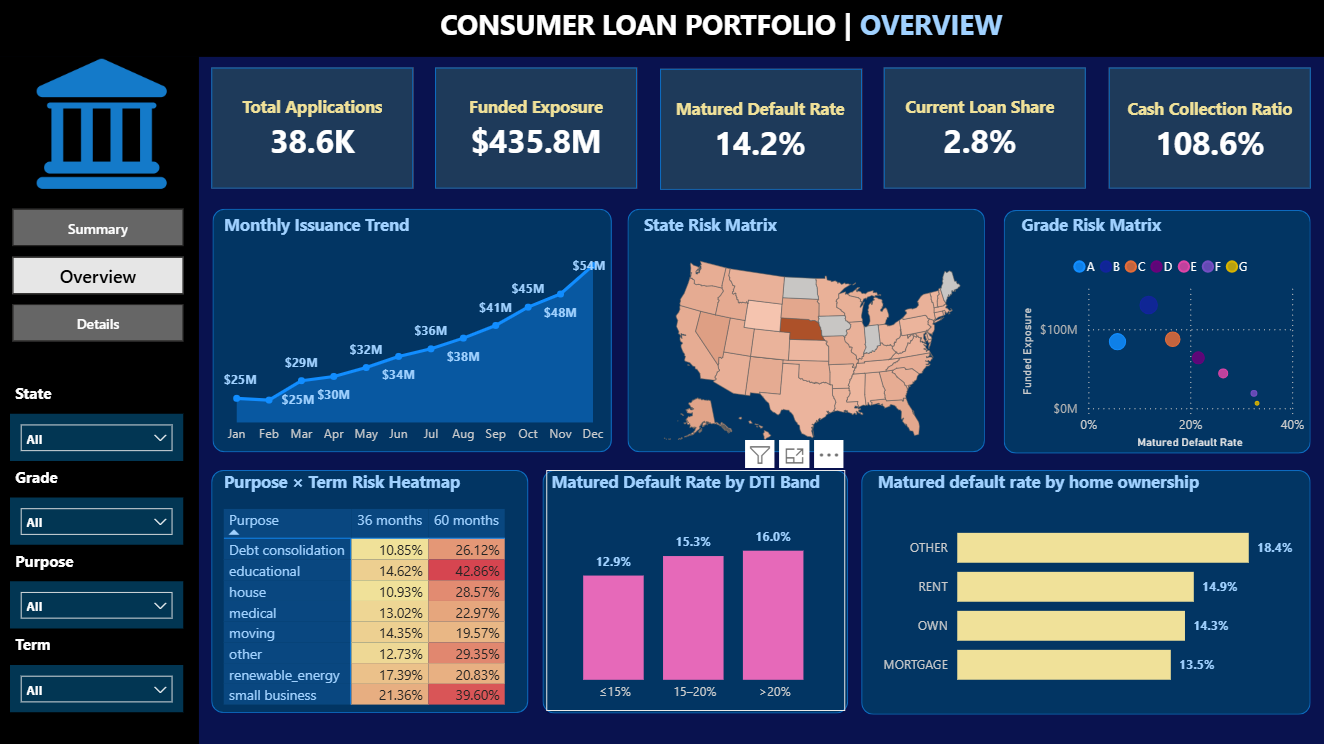

The dashboard page shown, as its layout file describes it:
{"tool":"powerbi","page":{"name":"Overview","canvas":[1280,720],"ordinal":1},"visuals":[{"type":"shape","box":[0,0,1280.3,54.9],"z":0},{"type":"shape","box":[0,54.3,192,666],"z":1000},{"type":"textbox","box":[420,0,561.2,52.5],"z":2000},{"type":"shape","box":[204.5,201.7,385.4,235.1],"z":3000},{"type":"areaChart","title":"Monthly Issuance Trend ","fields":{"Category":["Date Table.Month"],"Y":["_Measure.Funded Exposure"]},"box":[211.1,205.1,378.8,231.6],"z":4000},{"type":"shape","box":[605.2,201.7,345,235.1],"z":5000},{"type":"shapeMap","title":"State Risk Matrix","fields":{"Category":["bank_loan_data.address_state"],"Value":["_Measure.Matured Default Rate"]},"box":[616.3,204.5,335.3,233.7],"z":6000},{"type":"shape","box":[968.3,203.1,296.3,235.1],"z":7000},{"type":"scatterChart","title":"Grade Risk Matrix","fields":{"Series":["bank_loan_data.grade"],"Size":["_Measure.Resolved Loans"],"X":["_Measure.Matured Default Rate"],"Y":["_Measure.Funded Exposure"]},"box":[980.8,205.1,283.5,232.8],"z":8000},{"type":"shape","box":[204.5,453.8,306,234.6],"z":9000},{"type":"pivotTable","title":"Purpose × Term Risk Heatmap","fields":{"Columns":["bank_loan_data.term"],"Rows":["bank_loan_data.purpose"],"Values":["_Measure.Matured Default Rate"]},"box":[211.3,453.8,299.1,231.9],"z":10000},{"type":"shape","box":[523.8,453.8,295,235],"z":11000},{"type":"clusteredColumnChart","fields":{"Category":["bank_loan_data.DTI Band"],"Y":["_Measure.Matured Default Rate"]},"box":[527.5,453.8,287.5,232.5],"z":12000},{"type":"shape","box":[831.2,453.8,433.8,236.2],"z":13000},{"type":"image","box":[31.4,56.7,133.9,125.5],"z":14000},{"type":"pageNavigator","box":[12.5,201.7,165.6,130.8],"z":15000},{"type":"shape","box":[852.8,65.3,195,117],"z":16000},{"type":"shape","box":[1069.9,65.3,195,117],"z":17000},{"type":"shape","box":[203.7,65.3,195,117],"z":18000},{"type":"shape","box":[419.7,65.3,195,117],"z":19000},{"type":"cardVisual","fields":{"Data":["_Measure.Funded Exposure"]},"box":[419.8,65.6,195.2,117.5],"z":20000},{"type":"cardVisual","fields":{"Data":["_Measure.Cash Collection Ratio"]},"box":[1056.7,68,222.2,116.6],"z":21000},{"type":"shape","box":[636.8,65.9,195,117],"z":22000},{"type":"cardVisual","fields":{"Data":["_Measure.Current Loan Share"]},"box":[843,65.6,205.6,117.5],"z":23000},{"type":"cardVisual","fields":{"Data":["_Measure.Total Applications"]},"box":[203.8,65.6,195.2,117.5],"z":24000},{"type":"cardVisual","fields":{"Data":["_Measure.Matured Default Rate"]},"box":[620.7,66.7,227.7,118],"z":25000},{"type":"clusteredBarChart","title":"Matured default rate by home ownership","fields":{"Category":["bank_loan_data.home_ownership"],"Y":["_Measure.Matured Default Rate"]},"box":[842.5,453.8,411.2,223.8],"z":26000},{"type":"slicer","title":"State","fields":{"Values":["bank_loan_data.grade"]},"box":[10,480,167,45.9],"z":27000},{"type":"textbox","box":[10,445,91.8,34.8],"z":28000},{"type":"slicer","title":"State","fields":{"Values":["bank_loan_data.purpose"]},"box":[10,561,167,45.9],"z":29000},{"type":"textbox","box":[10,526,91.8,34.8],"z":30000},{"type":"slicer","title":"State","fields":{"Values":["bank_loan_data.term","bank_loan_data.purpose"]},"box":[10,642,167,45.9],"z":31000},{"type":"textbox","box":[10,607.1,91.8,34.8],"z":32000},{"type":"slicer","title":"State","fields":{"Values":["bank_loan_data.address_state"]},"box":[10,398.9,167,45.9],"z":33000},{"type":"textbox","box":[10,363.7,93.8,35],"z":34000}]}

Visuals, with their boxes in screenshot pixels (x1, y1, x2, y2), scaled from the page's 1280x720 canvas onto the 1324x744 screenshot:
shape: 0, 0, 1323, 57
shape: 0, 56, 199, 743
textbox: 434, 0, 1015, 54
shape: 212, 208, 610, 451
"Monthly Issuance Trend " areaChart: 218, 212, 610, 451
shape: 626, 208, 983, 451
"State Risk Matrix" shapeMap: 637, 211, 984, 453
shape: 1002, 210, 1308, 453
"Grade Risk Matrix" scatterChart: 1015, 212, 1308, 452
shape: 212, 469, 528, 711
"Purpose × Term Risk Heatmap" pivotTable: 219, 469, 528, 709
shape: 542, 469, 847, 712
clusteredColumnChart - bank_loan_data.DTI Band x _Measure.Matured Default Rate: 546, 469, 843, 709
shape: 860, 469, 1308, 713
image: 32, 59, 171, 188
pageNavigator: 13, 208, 184, 344
shape: 882, 67, 1084, 188
shape: 1107, 67, 1308, 188
shape: 211, 67, 412, 188
shape: 434, 67, 636, 188
cardVisual - _Measure.Funded Exposure: 434, 68, 636, 189
cardVisual - _Measure.Cash Collection Ratio: 1093, 70, 1323, 191
shape: 659, 68, 860, 189
cardVisual - _Measure.Current Loan Share: 872, 68, 1085, 189
cardVisual - _Measure.Total Applications: 211, 68, 413, 189
cardVisual - _Measure.Matured Default Rate: 642, 69, 878, 191
"Matured default rate by home ownership" clusteredBarChart: 871, 469, 1297, 700
"State" slicer: 10, 496, 183, 543
textbox: 10, 460, 105, 496
"State" slicer: 10, 580, 183, 627
textbox: 10, 544, 105, 579
"State" slicer: 10, 663, 183, 711
textbox: 10, 627, 105, 663
"State" slicer: 10, 412, 183, 460
textbox: 10, 376, 107, 412
